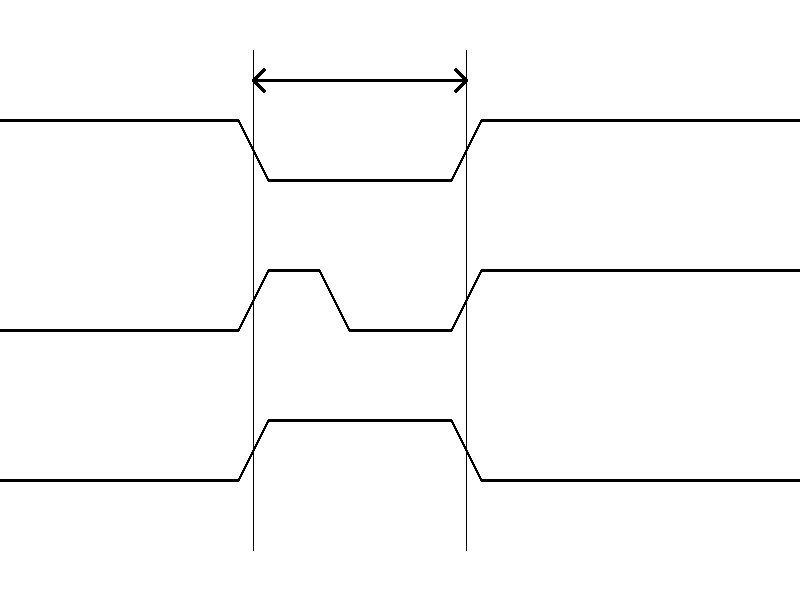double_arrow: (253, 65, 466, 95)
